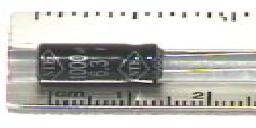Electrolytic Capacitor: (35, 35, 256, 86)
